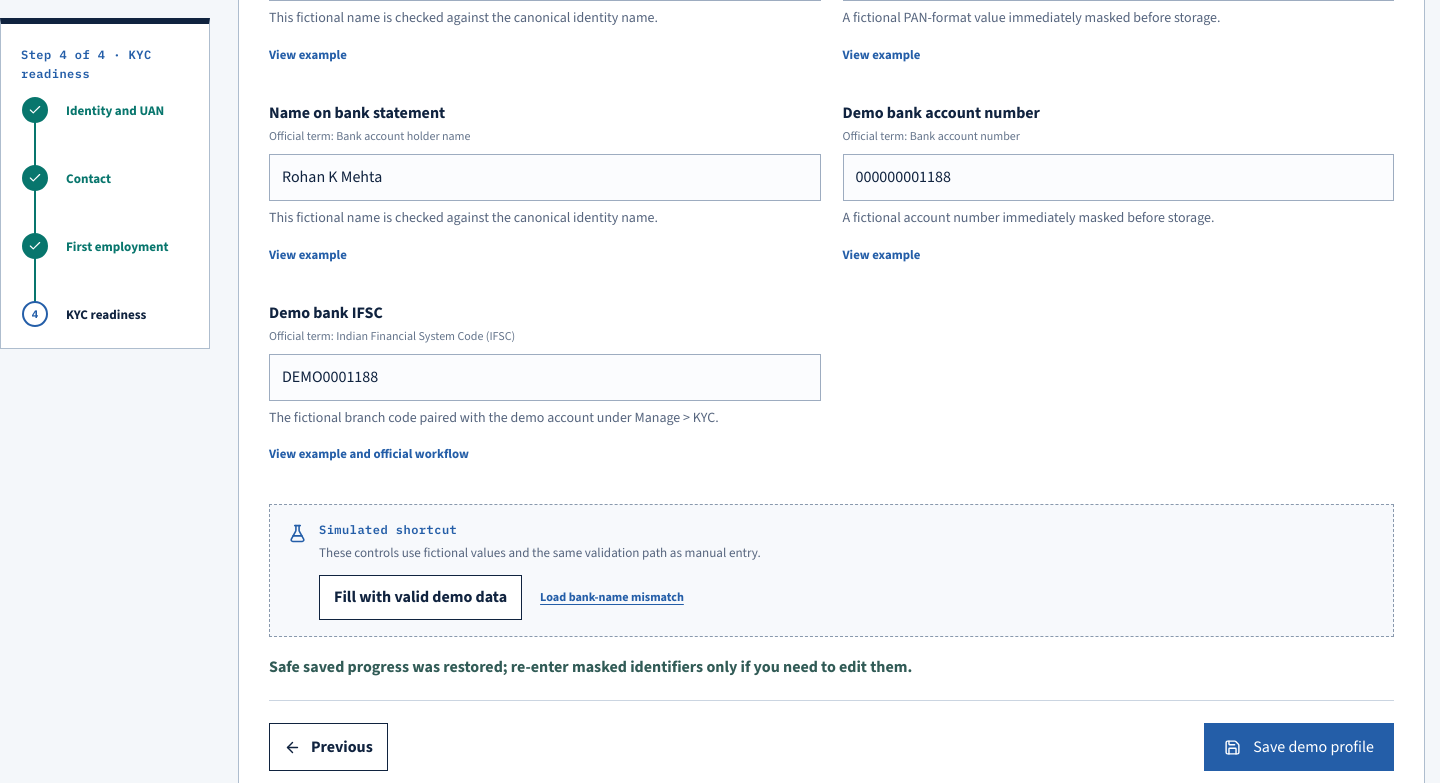
Test: OnboardingForm › shows a compact alert and highlights the bank-name field when it does not match Aadhaar
(page scrolled)
Click the button "Save demo profile": [1299, 747] box [1204,723,1394,771]
(page scrolled)
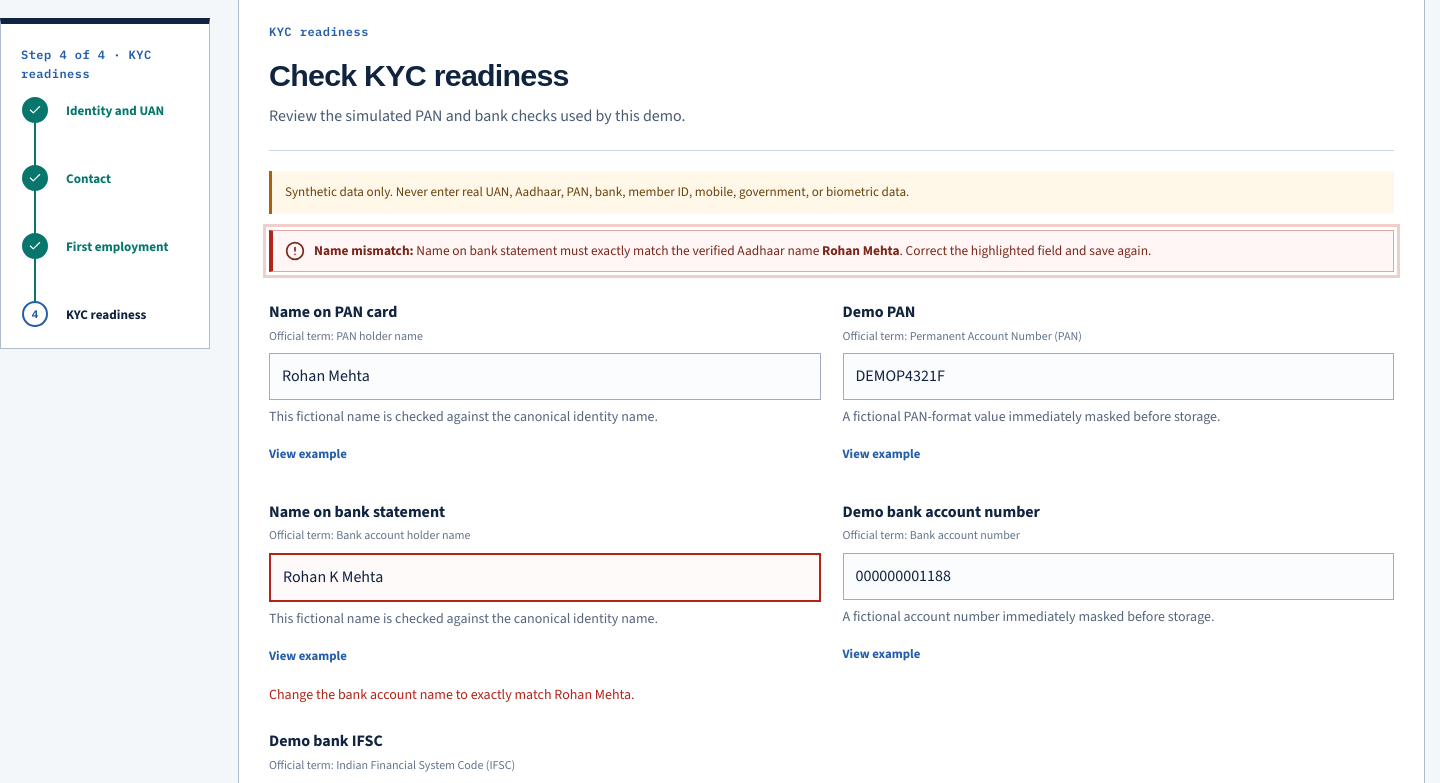
Expected: the message shows "Name mismatch", [314,242,414,259]
Expected: the message shows "Name on bank statement must exactly match the verified Aadhaar name Rohan Mehta", [269,230,1394,272]
Expected: the text "Change the bank account name to exactly match Rohan Mehta." is shown, [269,684,635,704]
